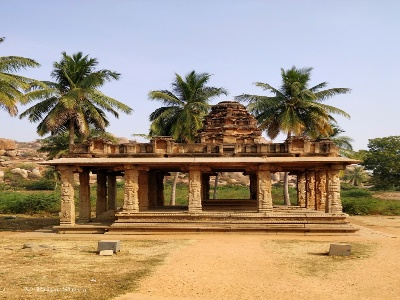mandapa: (39, 115, 366, 235)
